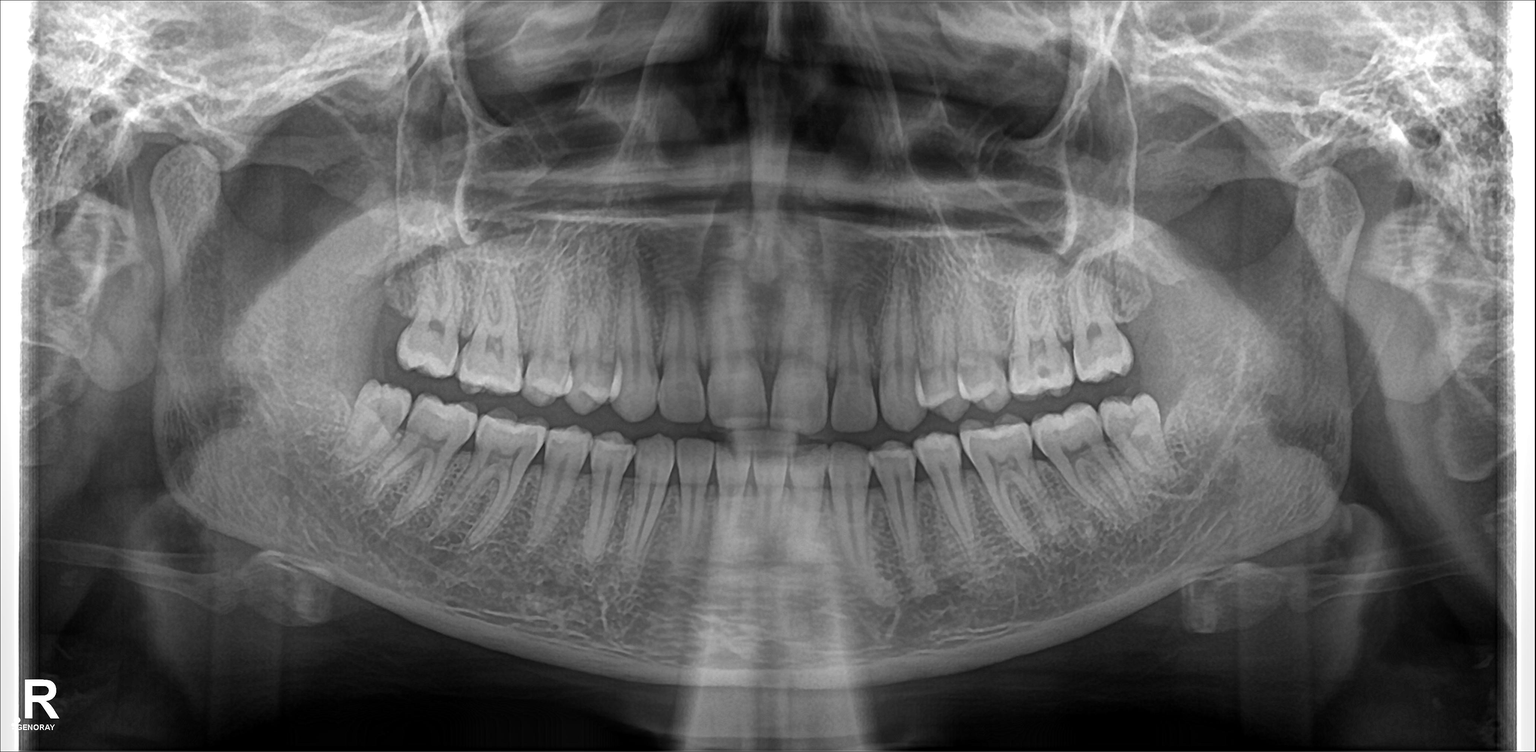Impacted Third Molar: (350, 376, 410, 456)
Missing Tooth: (1123, 264, 1170, 367)
